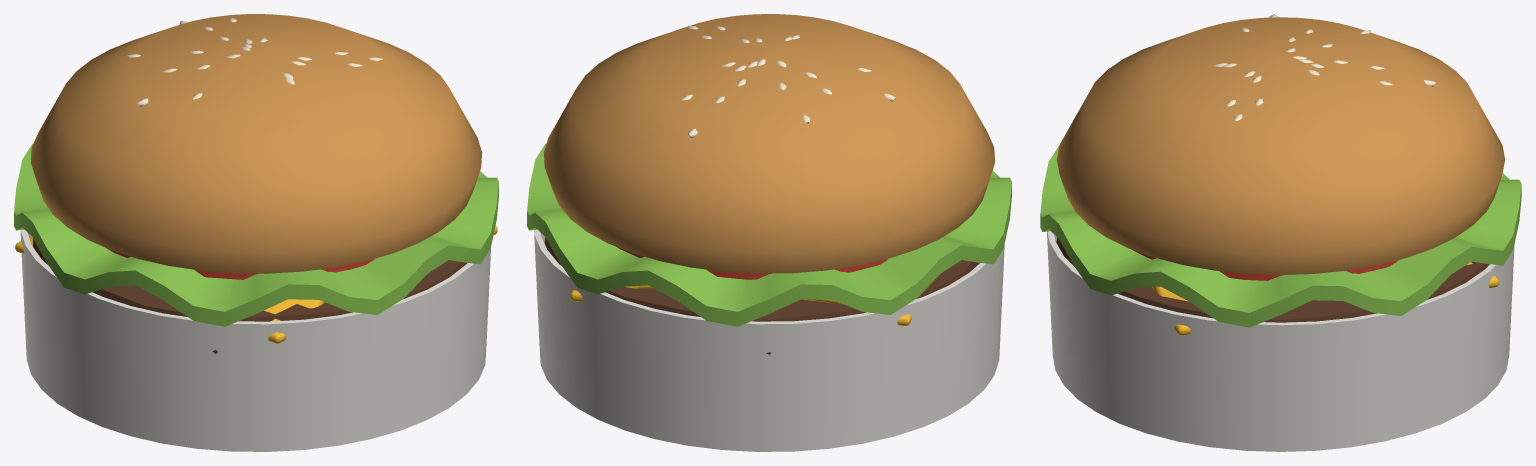
The model's file is food_burger.glb.
3 views of the same model, side by side, from view 1: azimuth 30°, elevation 25°; view 2: azimuth 150°, elevation 25°; view 3: azimuth 270°, elevation 25° (orthographic).
Visible parts, largest first — view 1: BunTop_LOD0, Wrap_LOD0, Lettuce_LOD0, Patty_LOD0, Cheese_LOD0, Tomato_LOD0; view 2: BunTop_LOD0, Wrap_LOD0, Lettuce_LOD0, Patty_LOD0, Tomato_LOD0; view 3: BunTop_LOD0, Wrap_LOD0, Lettuce_LOD0, Patty_LOD0, Tomato_LOD0.
Boxes of the visible parts, <box> form: BunTop_LOD0: <box>30,14,482,273</box>; Wrap_LOD0: <box>20,229,490,451</box>; Lettuce_LOD0: <box>14,143,498,326</box>; Patty_LOD0: <box>33,238,467,353</box>; Cheese_LOD0: <box>15,225,497,343</box>; Tomato_LOD0: <box>107,248,375,279</box>; BunTop_LOD0: <box>543,14,995,273</box>; Wrap_LOD0: <box>534,229,1004,451</box>; Lettuce_LOD0: <box>527,143,1011,326</box>; Patty_LOD0: <box>544,237,979,354</box>; Tomato_LOD0: <box>617,247,887,279</box>; BunTop_LOD0: <box>1056,17,1505,274</box>; Wrap_LOD0: <box>1047,231,1514,451</box>; Lettuce_LOD0: <box>1040,146,1521,327</box>; Patty_LOD0: <box>1056,237,1489,322</box>; Tomato_LOD0: <box>1132,249,1397,280</box>.
Size of the model in its own units: 0.118 by 0.081 by 0.118.
